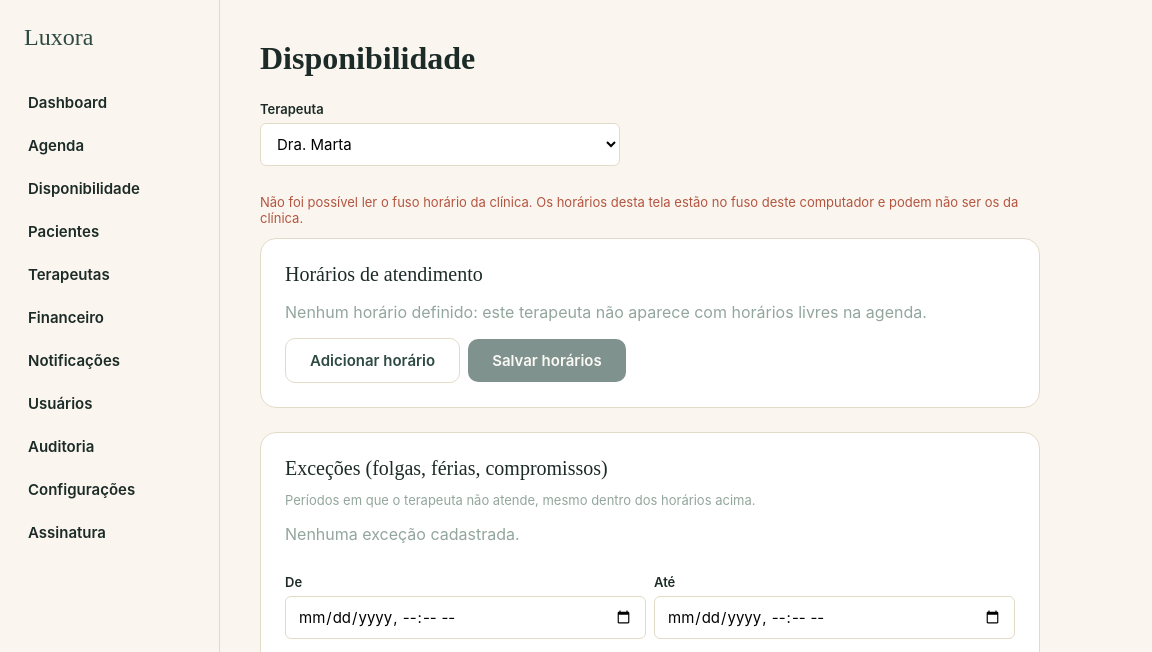
Test: DisponibilidadePage — horários de atendimento › depois de salvar, não acusa alteração pendente quando a leitura devolve as chaves em outra ordem
This screenshot has width=1152, height=652.
Click the button "Adicionar horário".
click(373, 360)  # box [285,338,460,383]
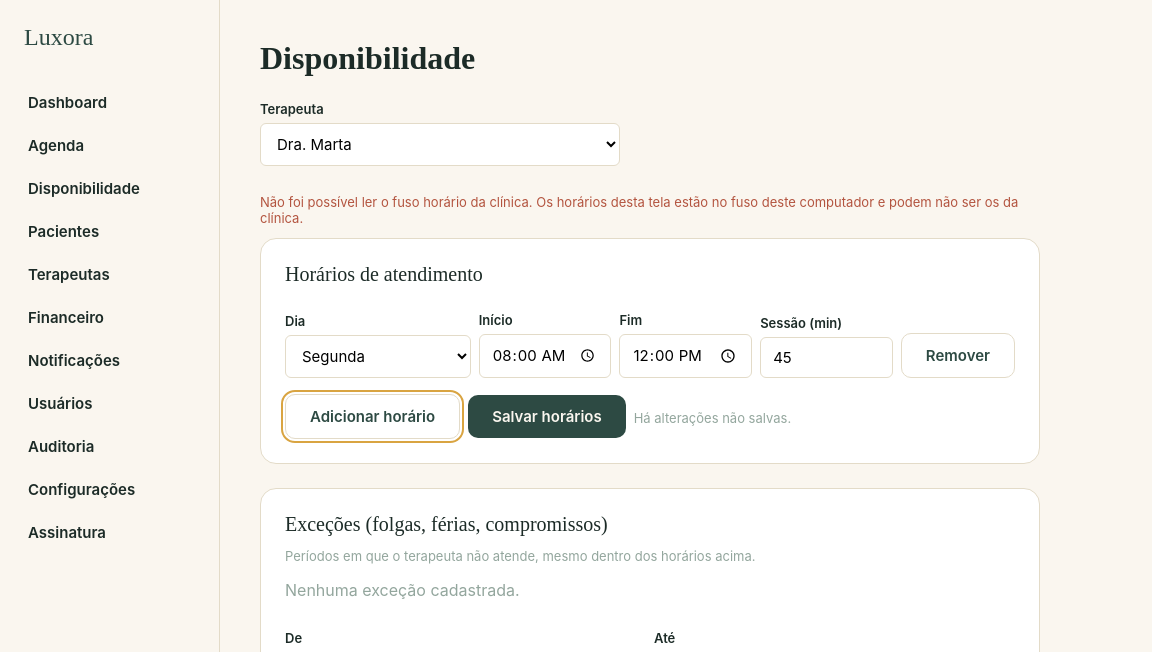
Click the button "Salvar horários".
click(547, 416)  # box [468,395,626,438]
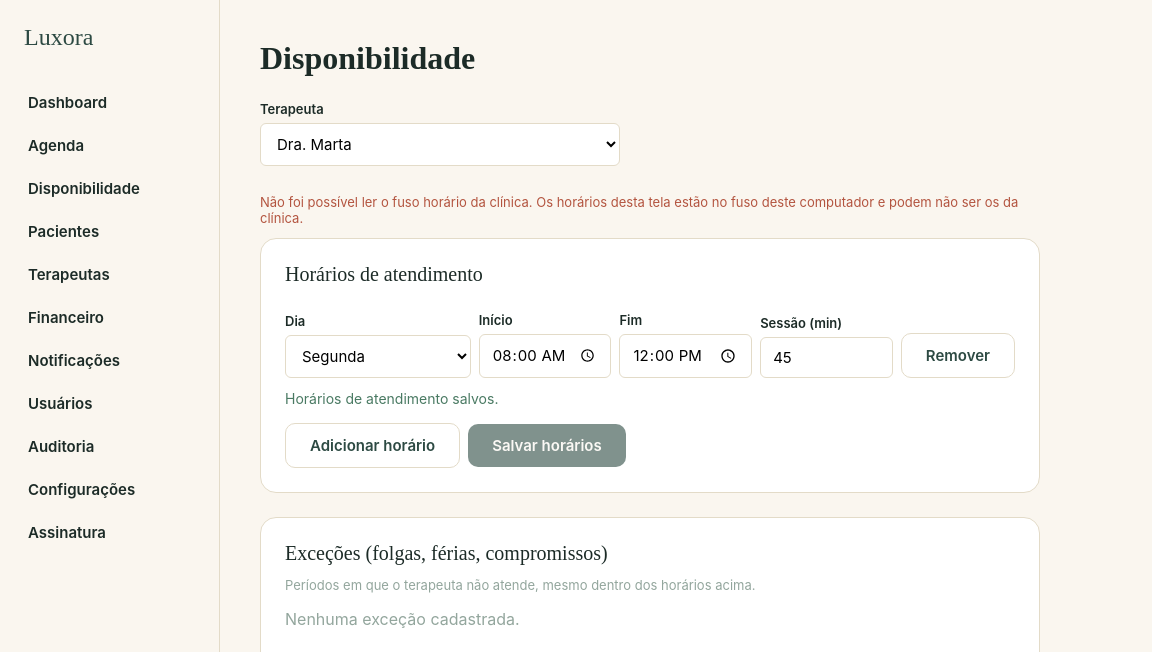
Now the message shows "Horários de atendimento salvos", box [285,390,498,407]
Now the text "alterações não salvas" is gone
Now the button "Salvar horários" is disabled, box [468,424,626,467]
